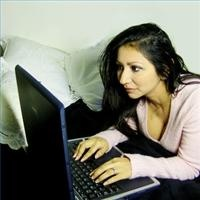person without safety: (102, 19, 190, 145)
